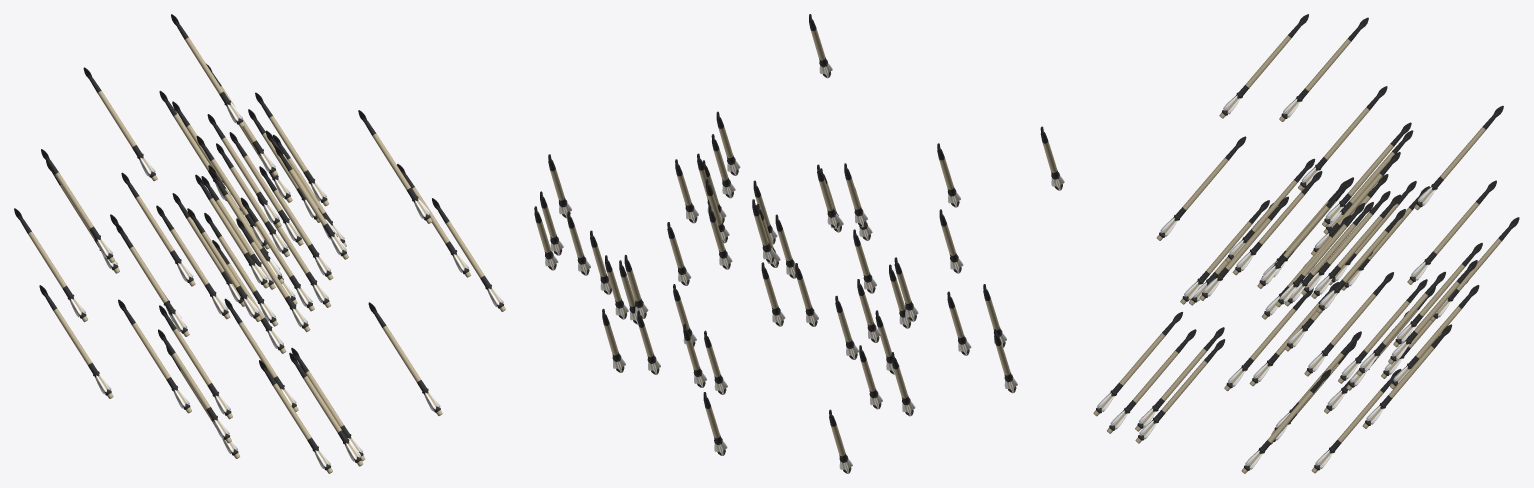
The model's file is Arrow All.fbx.
3 renders of one model, left to right at view 1: azimuth 30°, elevation 25°; view 2: azimuth 150°, elevation 25°; view 3: azimuth 270°, elevation 25°, orthographic. The views are drawn at different scales.
Visible parts, largest first — view 1: D5; view 2: D5; view 3: D5.
Boxes of the visible parts, x1=… form: D5: x1=14, y1=14, x2=505, y2=473; D5: x1=534, y1=14, x2=1064, y2=473; D5: x1=1093, y1=14, x2=1519, y2=473.
Bounding box in the file's own units: 1.36 × 1.24 × 1.15.
